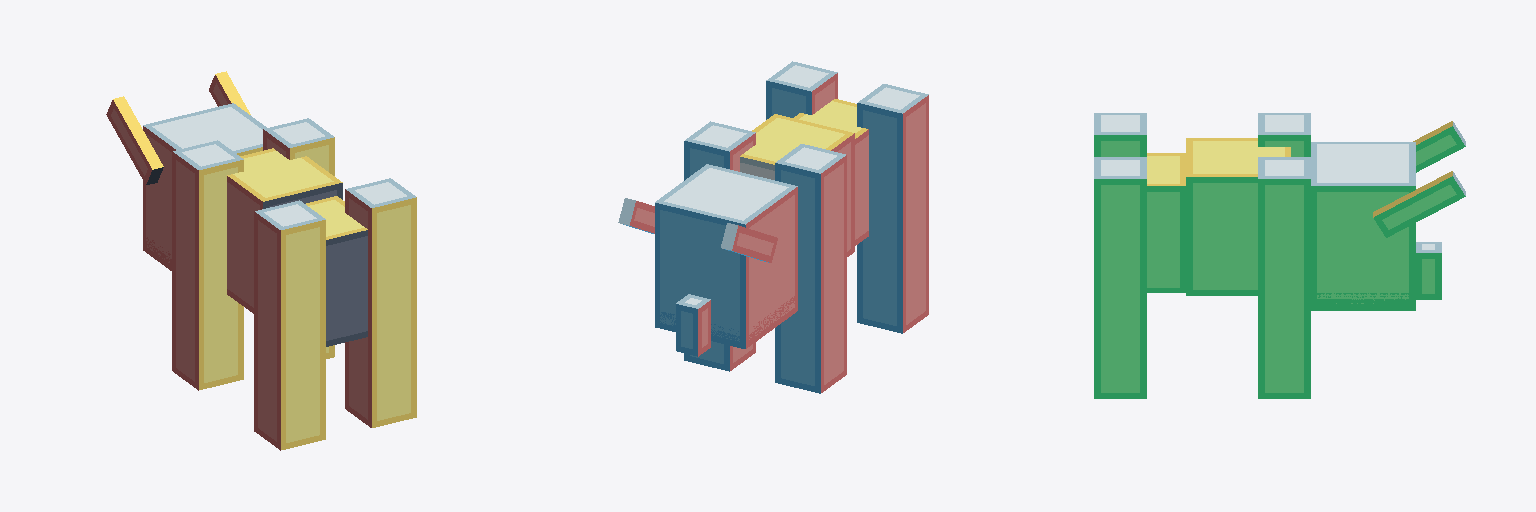
3 views of the same model, side by side, from view 1: azimuth 30°, elevation 25°; view 2: azimuth 150°, elevation 25°; view 3: azimuth 270°, elevation 25° (orthographic).
Visible parts, largest first — view 1: leg1, leg3, leg0, body, head, horns, leg2; view 2: head, leg1, leg3, body, leg2, leg0, horns, mouth; view 3: body, head, leg0, leg2, horns, leg1, leg3, mouth.
Boxes of the visible parts, x1=… form: leg1: x1=254, y1=200, x2=325, y2=450; leg3: x1=172, y1=140, x2=243, y2=390; leg0: x1=345, y1=178, x2=416, y2=427; body: x1=227, y1=148, x2=367, y2=346; head: x1=143, y1=103, x2=266, y2=264; horns: x1=106, y1=71, x2=250, y2=184; leg2: x1=263, y1=118, x2=334, y2=358; head: x1=655, y1=164, x2=797, y2=356; leg1: x1=857, y1=84, x2=928, y2=333; leg3: x1=775, y1=144, x2=846, y2=393; body: x1=740, y1=99, x2=868, y2=256; leg2: x1=684, y1=121, x2=755, y2=371; leg0: x1=766, y1=61, x2=837, y2=119; horns: x1=618, y1=198, x2=777, y2=262; mouth: x1=655, y1=294, x2=797, y2=348; body: x1=1147, y1=138, x2=1290, y2=295; head: x1=1311, y1=142, x2=1441, y2=304; leg0: x1=1094, y1=157, x2=1146, y2=398; leg2: x1=1258, y1=157, x2=1310, y2=398; horns: x1=1373, y1=121, x2=1465, y2=237; leg1: x1=1094, y1=113, x2=1146, y2=156; leg3: x1=1258, y1=113, x2=1310, y2=156; mouth: x1=1311, y1=293, x2=1415, y2=310.
Size of the model in its own units: 1.5 by 2.31 by 3.54.
1 materials, 1 textured.